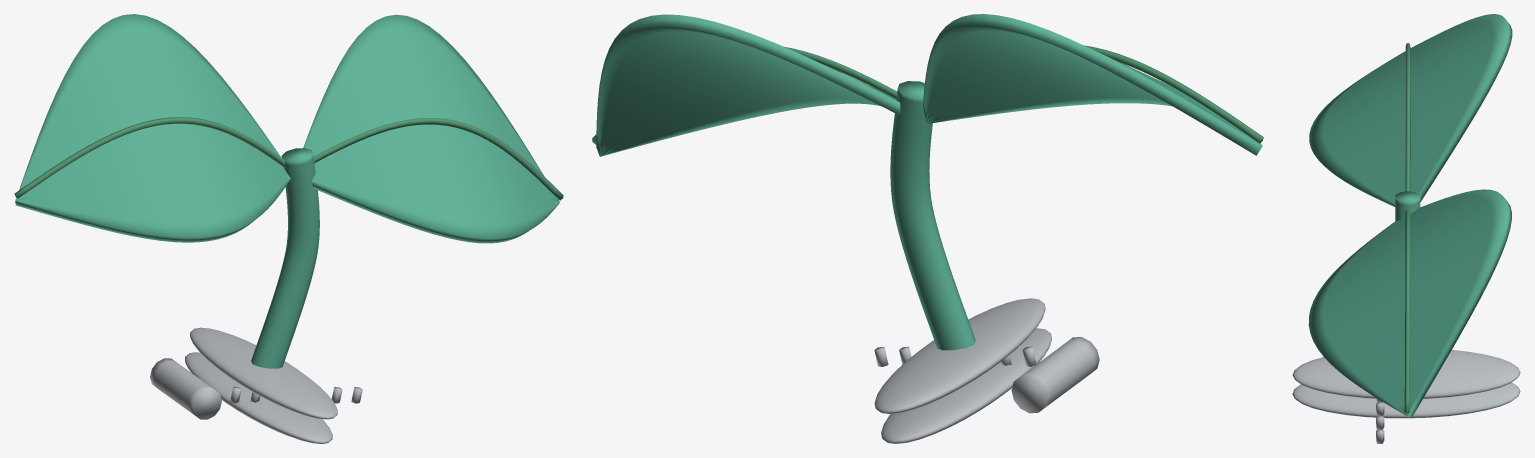
File: Feminine-bob-pashmina250-sprout.glb
3 views of the same model, side by side, from view 1: azimuth 30°, elevation 25°; view 2: azimuth 150°, elevation 25°; view 3: azimuth 270°, elevation 25° (orthographic). The views are drawn at different scales.
Parts seen in each view (by area): view 1: 226 extra / Accessory / mint226, 226 extra / Sprout / clip silver235, 226 extra / Sprout / leaf vein235; view 2: 226 extra / Accessory / mint226, 226 extra / Sprout / clip silver235, 226 extra / Sprout / leaf vein235; view 3: 226 extra / Accessory / mint226, 226 extra / Sprout / clip silver235, 226 extra / Sprout / leaf vein235.
Part boxes in pixels (left/top/right/bottom): 226 extra / Accessory / mint226: left=15, top=14, right=559, bottom=368; 226 extra / Sprout / clip silver235: left=150, top=327, right=362, bottom=443; 226 extra / Sprout / leaf vein235: left=14, top=117, right=563, bottom=200; 226 extra / Accessory / mint226: left=596, top=14, right=1262, bottom=350; 226 extra / Sprout / clip silver235: left=874, top=298, right=1099, bottom=443; 226 extra / Sprout / leaf vein235: left=592, top=45, right=1263, bottom=144; 226 extra / Accessory / mint226: left=1308, top=14, right=1512, bottom=417; 226 extra / Sprout / clip silver235: left=1292, top=350, right=1520, bottom=443; 226 extra / Sprout / leaf vein235: left=1404, top=43, right=1410, bottom=413.
Bounding box in the file's own units: 0.2645 × 0.1738 × 0.104.
